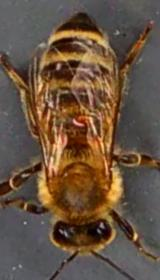varroa_mite: (68, 108, 100, 132)
